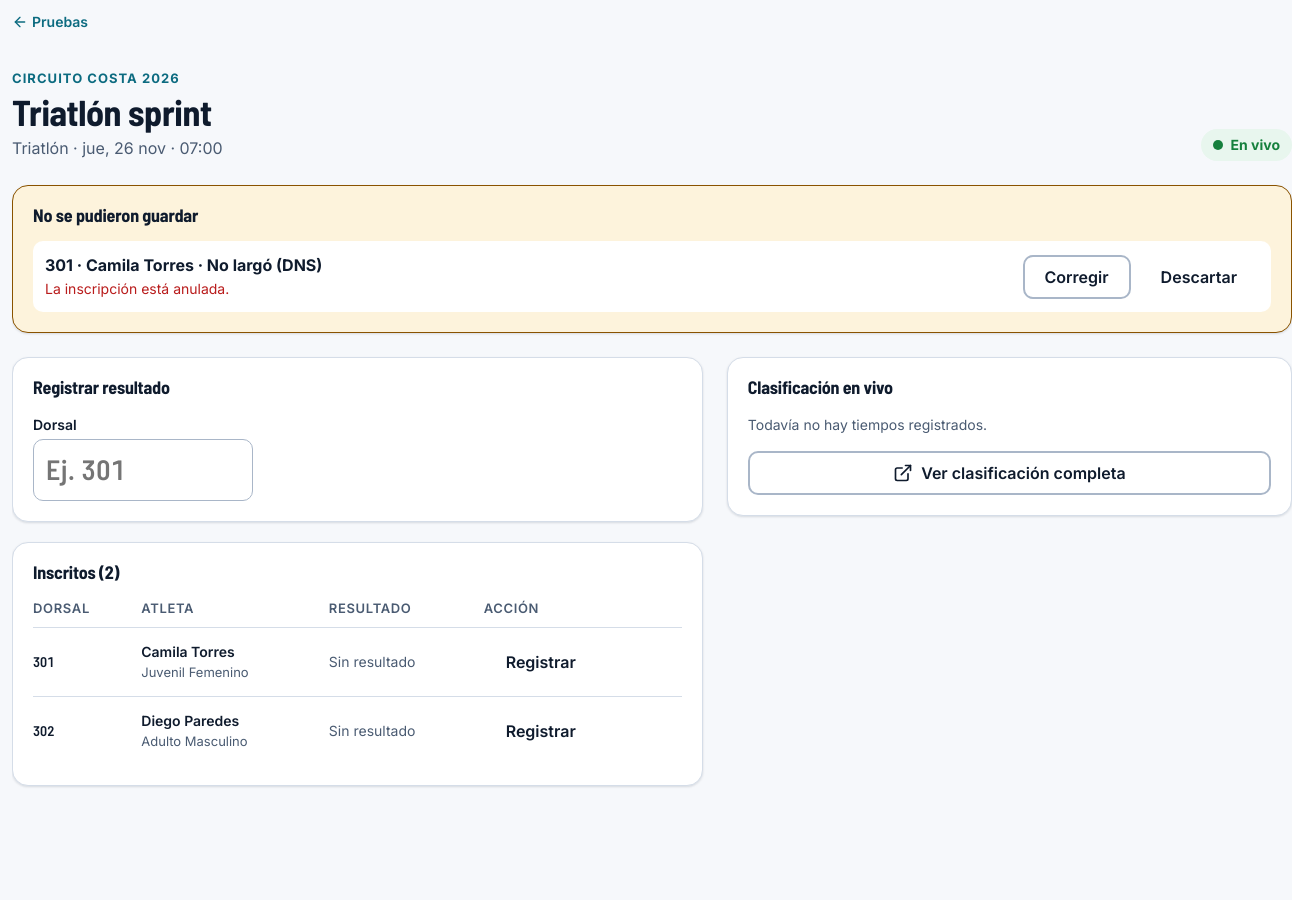
Scenario: RegistroTiemposPage › muestra un tiempo de la cola que el servidor rechazó y permite descartarlo
Expected: the text "La inscripción está anulada." is shown, top-left (45, 280), bottom-right (229, 297)
Click the button with aria-label "Descartar el resultado de Camila Torres". click: (1199, 277)
box: top-left (1139, 255), bottom-right (1259, 299)
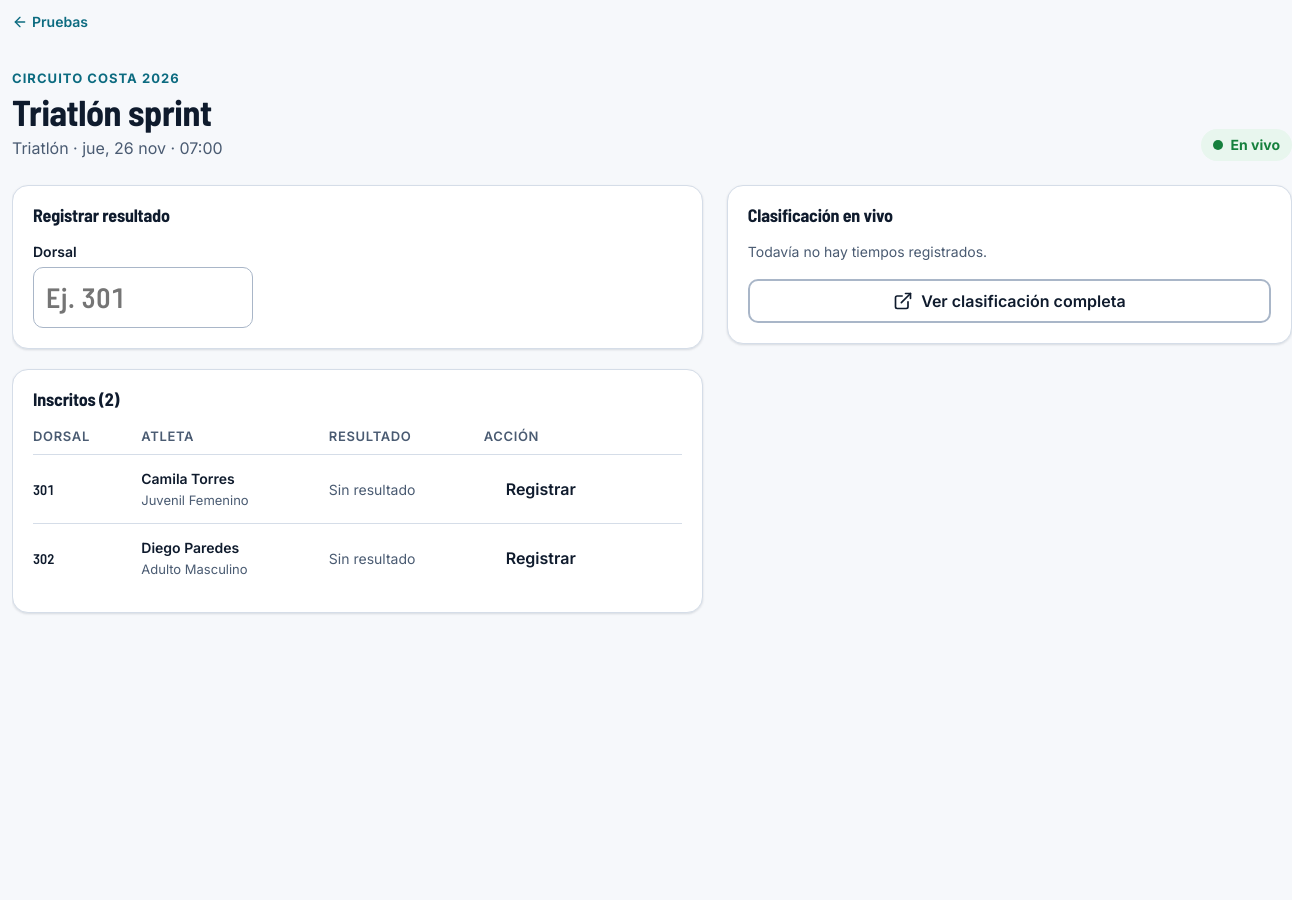
Result: the text "La inscripción está anulada." is gone
